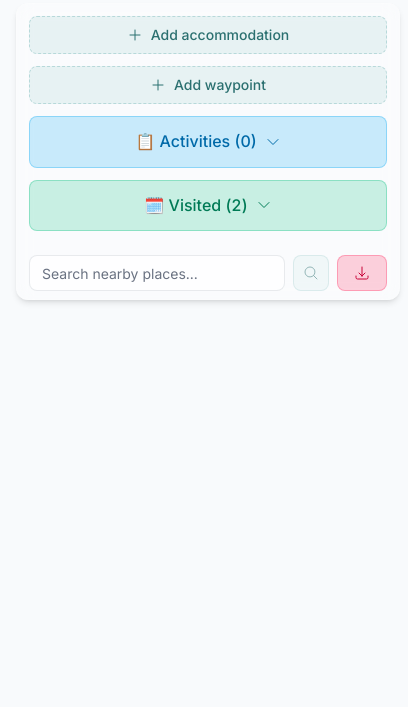
Test: ActivitiesPanel planned/visited split › puts undated visited items in a final group
Click the button named "Visited (2)".
click(208, 205)  # box x1=29 y1=180 x2=387 y2=231
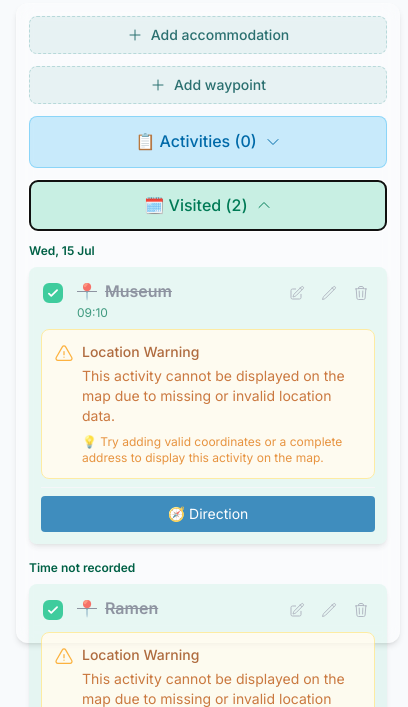
Now the heading "Time not recorded" is shown, box x1=29 y1=560 x2=135 y2=575
